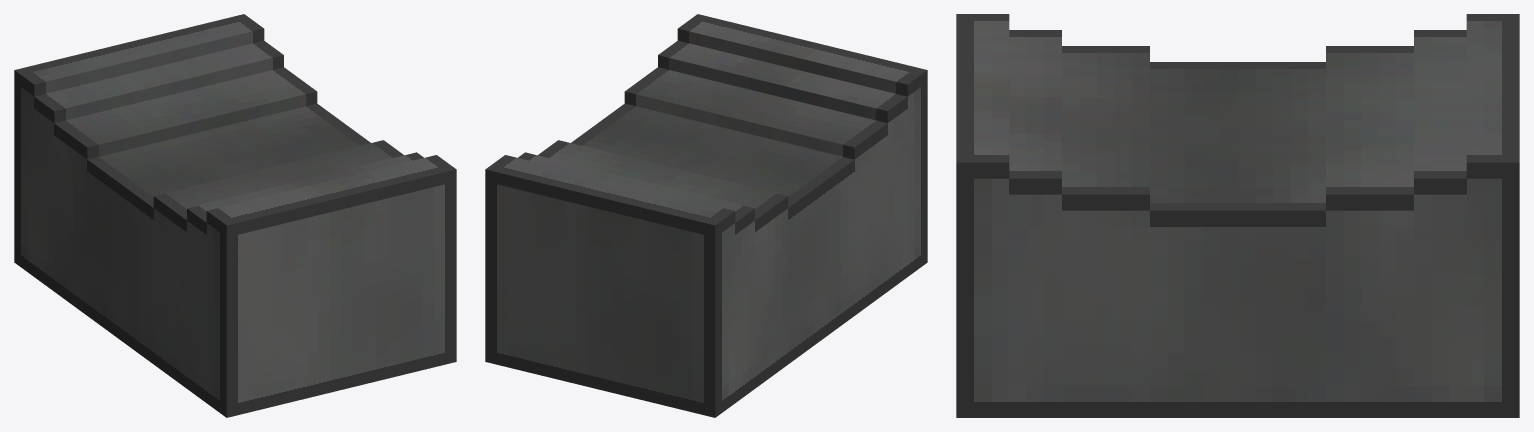
The model's file is knife_stone.gltf.
3 renders of one model, left to right at view 1: azimuth 30°, elevation 25°; view 2: azimuth 150°, elevation 25°; view 3: azimuth 270°, elevation 25°, orthographic. The views are drawn at different scales.
Parts seen in each view (by area): view 1: cube (×7); view 2: cube (×7); view 3: cube (×7).
Boxes of the visible parts, box(x1,y1,x2,y2) form: cube (×7): box(14, 14, 456, 417); cube (×7): box(485, 14, 927, 417); cube (×7): box(956, 14, 1519, 417).
Bounding box in the file's own units: 0.625 × 0.5 × 1.
4 materials, 4 textured.
